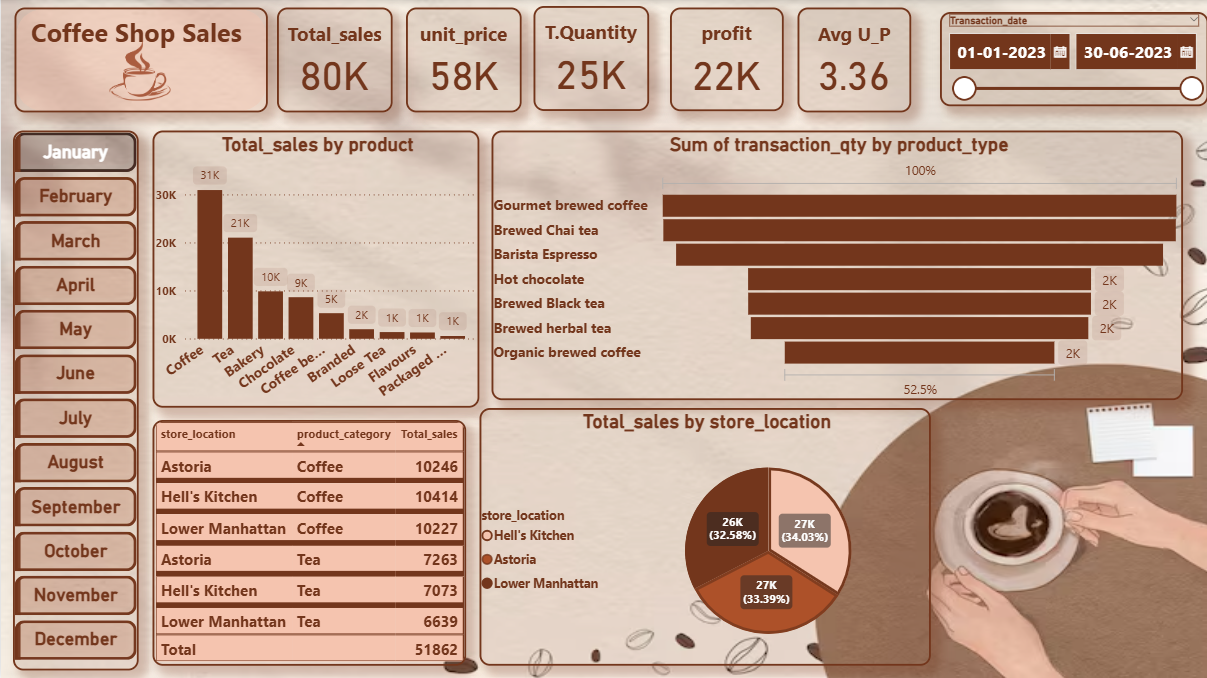

This screenshot's page, from the dashboard's own definition file:
{"tool":"powerbi","page":{"name":"Page 1","canvas":[1280,720],"ordinal":0},"visuals":[{"type":"shape","box":[14.3,8,268.8,111.3],"z":0},{"type":"cardVisual","fields":{"Data":["Transactions.Total_sales"]},"box":[292.7,8,122.5,111.3],"z":1000},{"type":"cardVisual","fields":{"Data":["Transactions.Total Quantity"]},"box":[564.7,6.4,122.5,111.3],"z":2000},{"type":"cardVisual","fields":{"Data":["Transactions.Average Unit Price"]},"box":[844.6,8,120.9,111.3],"z":3000},{"type":"cardVisual","fields":{"Data":["Transactions.unitprice"]},"box":[429.5,8,122.5,111.3],"z":4000},{"type":"slicer","fields":{"Values":["Transactions.transaction_date"]},"box":[995.7,12.7,284.7,100.2],"z":5000},{"type":"advancedSlicerVisual","fields":{"Values":["Transactions.transaction_date.Variation.Date Hierarchy.Month"]},"box":[12.7,138.4,133.6,572.6],"z":6000},{"type":"clusteredColumnChart","fields":{"Y":["Transactions.Total_sales"],"Category":["Transactions.product_category"]},"box":[160,138.4,346.8,294.3],"z":7000},{"type":"pieChart","fields":{"Category":["Transactions.store_location"],"Y":["Transactions.Total_sales"]},"box":[507.4,432.6,478.8,273.6],"z":8000},{"type":"cardVisual","fields":{"Data":["Transactions.profit"]},"box":[709.4,8,120.9,109.8],"z":9000},{"type":"funnel","fields":{"Category":["Transactions.product_type"],"Y":["Sum(Transactions.transaction_qty)"]},"box":[520.1,138.4,733.3,286.3],"z":10000},{"type":"tableEx","fields":{"Values":["Transactions.store_location","Transactions.product_category","Transactions.Total_sales"]},"box":[160,445.4,332.4,260.9],"z":11000},{"type":"textbox","box":[31.8,15.9,233.8,46.1],"z":12000},{"type":"image","box":[109.8,36.6,74.8,76.3],"z":12001}]}

Visuals, with their boxes in screenshot pixels (x1, y1, x2, y2), scaled from the page's 1280x720 canvas onto the 1207x678 screenshot:
shape: bbox(13, 8, 267, 112)
cardVisual - Transactions.Total_sales: bbox(276, 8, 392, 112)
cardVisual - Transactions.Total Quantity: bbox(532, 6, 648, 111)
cardVisual - Transactions.Average Unit Price: bbox(796, 8, 910, 112)
cardVisual - Transactions.unitprice: bbox(405, 8, 521, 112)
slicer - Transactions.transaction_date: bbox(939, 12, 1206, 106)
advancedSlicerVisual - Transactions.transaction_date.Variation.Date Hierarchy.Month: bbox(12, 130, 138, 670)
clusteredColumnChart - Transactions.Total_sales x Transactions.product_category: bbox(151, 130, 478, 407)
pieChart - Transactions.store_location x Transactions.Total_sales: bbox(478, 407, 930, 665)
cardVisual - Transactions.profit: bbox(669, 8, 783, 111)
funnel - Transactions.product_type x Sum(Transactions.transaction_qty): bbox(490, 130, 1182, 400)
tableEx - Transactions.store_location x Transactions.product_category: bbox(151, 419, 464, 665)
textbox: bbox(30, 15, 250, 58)
image: bbox(104, 34, 174, 106)
